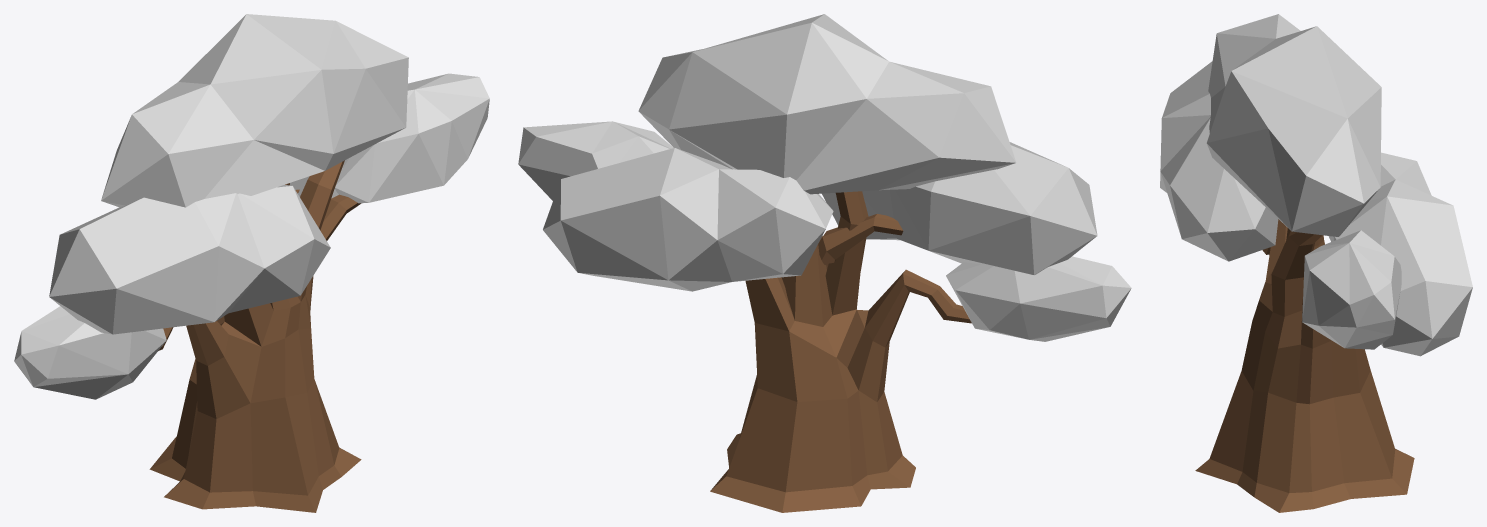
The model's file is tree-baobab.fbx.
The picture shows the model from 3 angles, left to right: view 1: azimuth 30°, elevation 25°; view 2: azimuth 150°, elevation 25°; view 3: azimuth 270°, elevation 25°; orthographic projection. The views are drawn at different scales.
Visible parts, largest first — view 1: tree-baobab; view 2: tree-baobab; view 3: tree-baobab.
Part boxes in pixels (x1,y1,x2,y2): tree-baobab: (14,14,489,512); tree-baobab: (518,14,1131,512); tree-baobab: (1160,14,1472,512).
Bounding box in the file's own units: 7.87 × 6.37 × 4.09.
